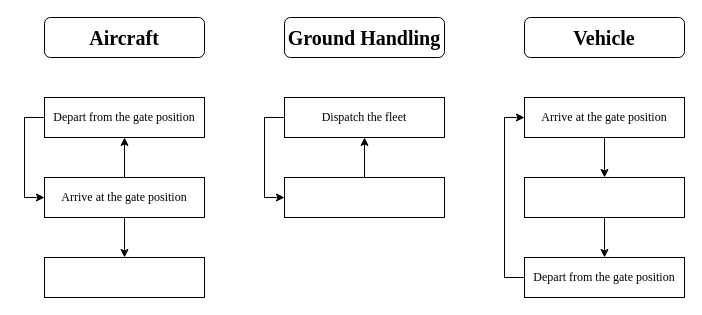
This 702x315 diagram has some shape labels left out. Each missing label, with the centre of its shape:
"Leave the simulation" goes at (x=124, y=277).
"Serve the aircraft" goes at (x=604, y=197).
"Wait for a period" goes at (x=364, y=197).
